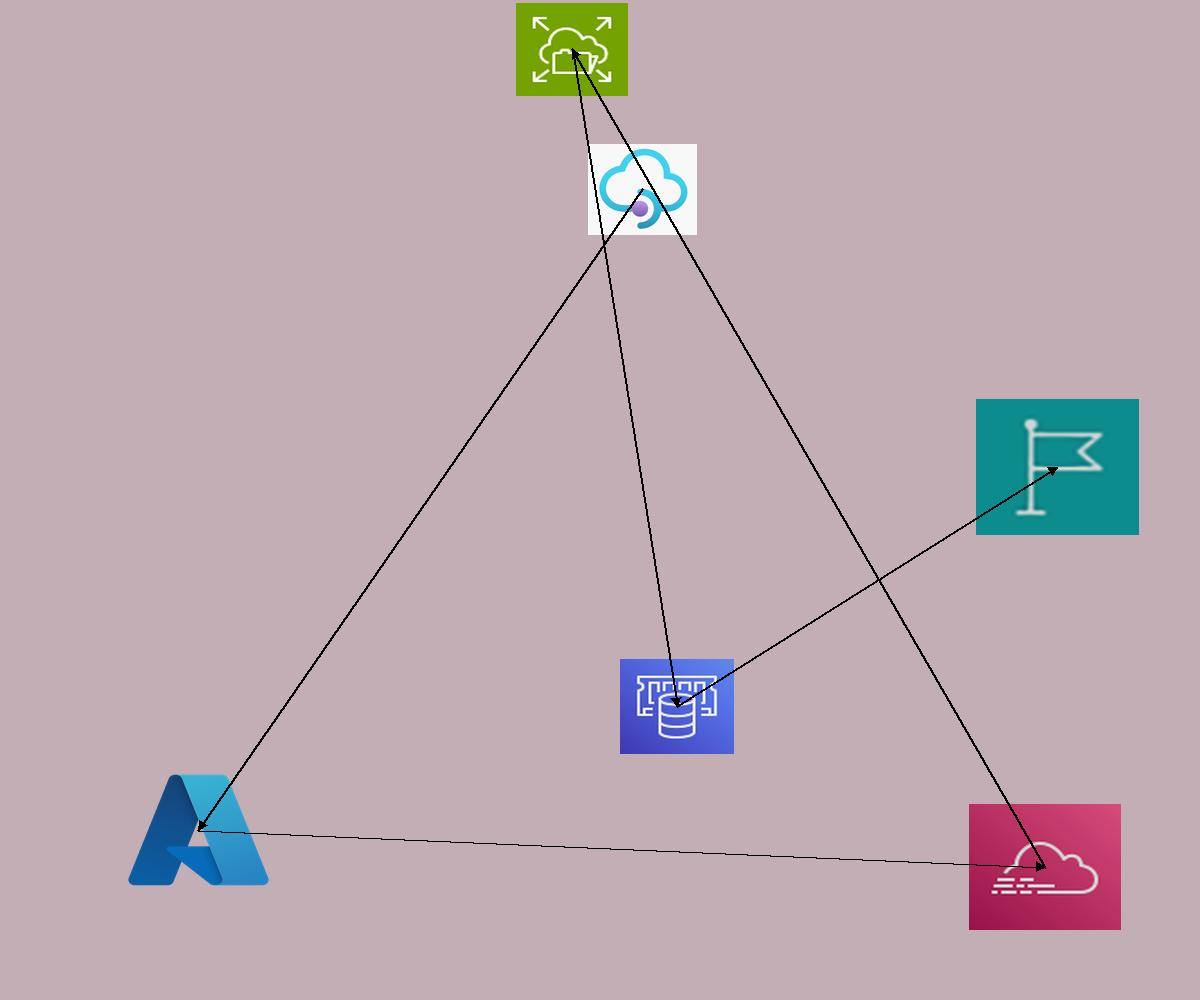AWS-CloudTrail: (969, 804, 1121, 930)
AWS-EFS: (516, 3, 628, 96)
AWS-ElastiCache: (620, 659, 734, 754)
AWS-Region: (976, 399, 1139, 535)
Azure_api_gateway: (588, 144, 697, 235)
Azure_services: (122, 766, 275, 894)
